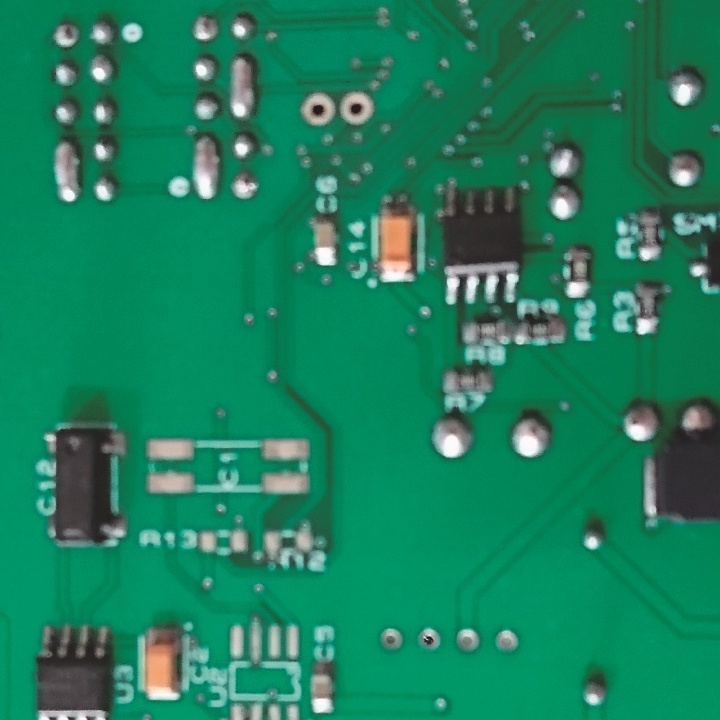F: (339, 88, 374, 131), (301, 91, 336, 128), (227, 171, 262, 206), (50, 20, 82, 51), (189, 15, 219, 45), (494, 626, 521, 658), (376, 626, 406, 654), (453, 629, 484, 654), (418, 628, 444, 652)
P: (225, 49, 258, 123), (49, 138, 83, 206), (189, 129, 221, 196)
